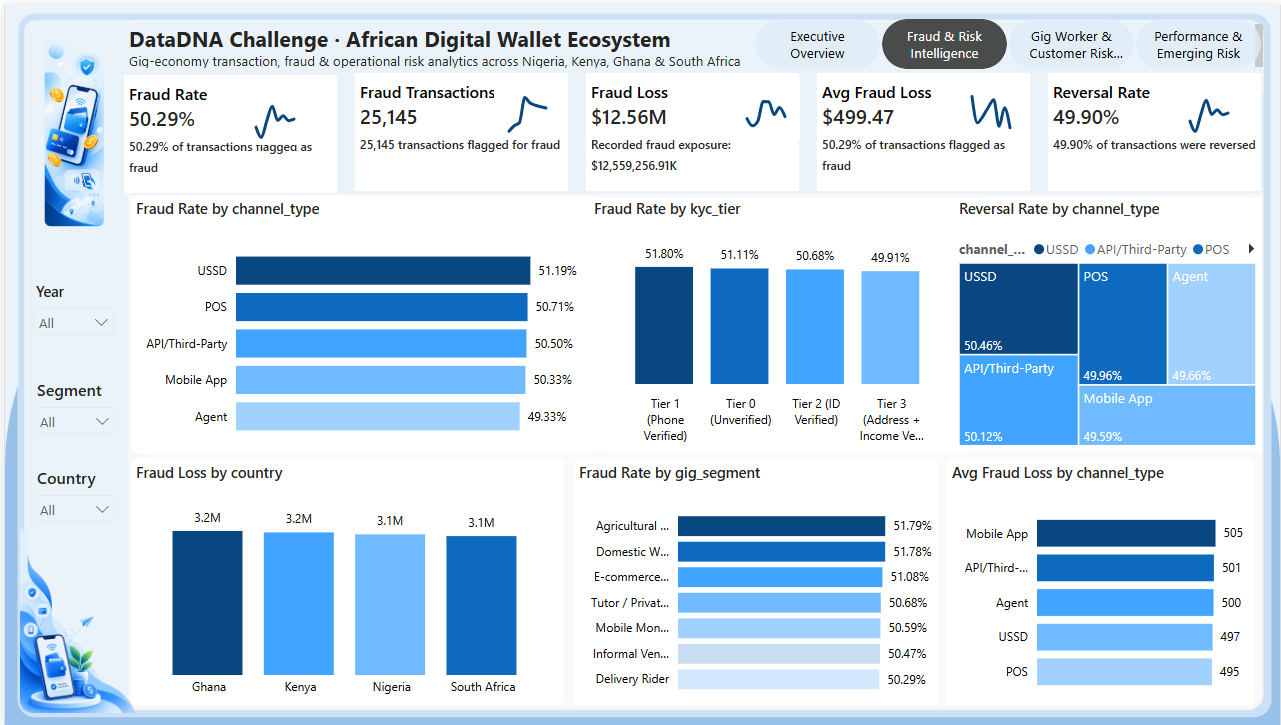

Layout of this report page (visuals, bound fields, positions):
{"tool":"powerbi","page":{"name":"Fraud & Risk Intelligence","canvas":[1280,720],"ordinal":1},"visuals":[{"type":"cardVisual","fields":{"Data":["Measure.Fraud Transactions"]},"box":[352,68.2,212.7,118.2],"z":0},{"type":"lineChart","fields":{"Category":["dim_date.full_date.Variation.Date Hierarchy.Year","dim_date.full_date.Variation.Date Hierarchy.Quarter"],"Y":["Measure.Fraud Transactions"]},"box":[490.9,70,67.3,63.6],"z":1000},{"type":"cardVisual","fields":{"Data":["Measure.Fraud Loss"]},"box":[583.2,68.2,212.7,118.2],"z":2000},{"type":"lineChart","fields":{"Category":["dim_date.full_date.Variation.Date Hierarchy.Year","dim_date.full_date.Variation.Date Hierarchy.Quarter"],"Y":["Measure.Fraud Loss"]},"box":[729.1,71.8,68.2,61.8],"z":3000},{"type":"cardVisual","fields":{"Data":["Measure.Average Fraud Loss"]},"box":[814.3,68.2,212.7,118.2],"z":4000},{"type":"lineChart","fields":{"Category":["dim_date.full_date.Variation.Date Hierarchy.Year","dim_date.full_date.Variation.Date Hierarchy.Quarter"],"Y":["Measure.Unique Workers"]},"box":[943.6,71.8,68.2,61.8],"z":5000},{"type":"cardVisual","fields":{"Data":["Measure.Reversal Rate"]},"box":[1045.5,68.2,212.7,118.2],"z":6000},{"type":"lineChart","fields":{"Category":["dim_date.full_date.Variation.Date Hierarchy.Year","dim_date.full_date.Variation.Date Hierarchy.Quarter"],"Y":["Measure.Avg Fraud Loss"]},"box":[953.6,71.8,68.2,61.8],"z":7000},{"type":"lineChart","fields":{"Category":["dim_date.full_date.Variation.Date Hierarchy.Year","dim_date.full_date.Variation.Date Hierarchy.Quarter"],"Y":["Measure.Reversal Rate"]},"box":[1162.7,71.8,68.2,61.8],"z":8000},{"type":"clusteredBarChart","fields":{"Category":["dim_channel.channel_type"],"Y":["Measure.Fraud Rate"]},"box":[128.2,192.7,454.5,253.6],"z":9000},{"type":"columnChart","fields":{"Category":["dim_market.country"],"Y":["Measure.Fraud Loss"]},"box":[128.2,457.3,430,242.7],"z":10000},{"type":"treemap","fields":{"Group":["dim_channel.channel_type"],"Values":["Measure.Reversal Rate"]},"box":[950.9,192.7,307.3,253.6],"z":11000},{"type":"clusteredBarChart","fields":{"Category":["dim_worker.gig_segment"],"Y":["Measure.Fraud Rate"]},"box":[570.9,457.3,362.7,242.7],"z":12000},{"type":"clusteredColumnChart","fields":{"Category":["dim_worker.kyc_tier"],"Y":["Measure.Fraud Rate"]},"box":[586.4,192.7,367.3,253.6],"z":13000},{"type":"clusteredBarChart","fields":{"Category":["dim_channel.channel_type"],"Y":["Measure.Avg Fraud Loss"]},"box":[943.6,457.3,307.3,242.7],"z":14000},{"type":"textbox","box":[120.9,13.6,1144.5,54.5],"z":15000},{"type":"cardVisual","fields":{"Data":["Measure.Fraud Rate"]},"box":[120.9,70,212.7,118.2],"z":16000},{"type":"lineChart","fields":{"Category":["dim_date.full_date.Variation.Date Hierarchy.Year","dim_date.full_date.Variation.Date Hierarchy.Quarter"],"Y":["Measure.Fraud Rate"]},"box":[238.2,78.2,68.2,61.8],"z":17000},{"type":"lineChart","fields":{"Category":["dim_date.full_date.Variation.Date Hierarchy.Year","dim_date.full_date.Variation.Date Hierarchy.Quarter"],"Y":["Measure.Fraud Rate"]},"box":[1171.8,71.8,68.2,61.8],"z":18000},{"type":"pageNavigator","box":[752.2,14,505.8,49.9],"z":19000},{"type":"image","box":[0,14,143.1,229.2],"z":20000},{"type":"slicer","fields":{"Values":["dim_date.full_date.Variation.Date Hierarchy.Year"]},"box":[20.2,271.3,101,70.2],"z":20001},{"type":"slicer","fields":{"Values":["dim_worker.gig_segment"]},"box":[21.1,368.8,101,64.1],"z":20002},{"type":"slicer","fields":{"Values":["dim_market.country"]},"box":[21.1,457.5,101,64.1],"z":20003},{"type":"image","box":[14.9,521.6,128.2,187],"z":20004}]}

Visuals, with their boxes on the page's 1280x720 design canvas (x1, y1, x2, y2). These are canvas units, not pixel positions in the 1281x725 screenshot, which may show the page scaled, cropped or inside an application window:
cardVisual - Measure.Fraud Transactions: 352,68,565,186
lineChart - dim_date.full_date.Variation.Date Hierarchy.Year x dim_date.full_date.Variation.Date Hierarchy.Quarter: 491,70,558,134
cardVisual - Measure.Fraud Loss: 583,68,796,186
lineChart - dim_date.full_date.Variation.Date Hierarchy.Year x dim_date.full_date.Variation.Date Hierarchy.Quarter: 729,72,797,134
cardVisual - Measure.Average Fraud Loss: 814,68,1027,186
lineChart - dim_date.full_date.Variation.Date Hierarchy.Year x dim_date.full_date.Variation.Date Hierarchy.Quarter: 944,72,1012,134
cardVisual - Measure.Reversal Rate: 1046,68,1258,186
lineChart - dim_date.full_date.Variation.Date Hierarchy.Year x dim_date.full_date.Variation.Date Hierarchy.Quarter: 954,72,1022,134
lineChart - dim_date.full_date.Variation.Date Hierarchy.Year x dim_date.full_date.Variation.Date Hierarchy.Quarter: 1163,72,1231,134
clusteredBarChart - dim_channel.channel_type x Measure.Fraud Rate: 128,193,583,446
columnChart - dim_market.country x Measure.Fraud Loss: 128,457,558,700
treemap - dim_channel.channel_type x Measure.Reversal Rate: 951,193,1258,446
clusteredBarChart - dim_worker.gig_segment x Measure.Fraud Rate: 571,457,934,700
clusteredColumnChart - dim_worker.kyc_tier x Measure.Fraud Rate: 586,193,954,446
clusteredBarChart - dim_channel.channel_type x Measure.Avg Fraud Loss: 944,457,1251,700
textbox: 121,14,1265,68
cardVisual - Measure.Fraud Rate: 121,70,334,188
lineChart - dim_date.full_date.Variation.Date Hierarchy.Year x dim_date.full_date.Variation.Date Hierarchy.Quarter: 238,78,306,140
lineChart - dim_date.full_date.Variation.Date Hierarchy.Year x dim_date.full_date.Variation.Date Hierarchy.Quarter: 1172,72,1240,134
pageNavigator: 752,14,1258,64
image: 0,14,143,243
slicer - dim_date.full_date.Variation.Date Hierarchy.Year: 20,271,121,342
slicer - dim_worker.gig_segment: 21,369,122,433
slicer - dim_market.country: 21,458,122,522
image: 15,522,143,709
